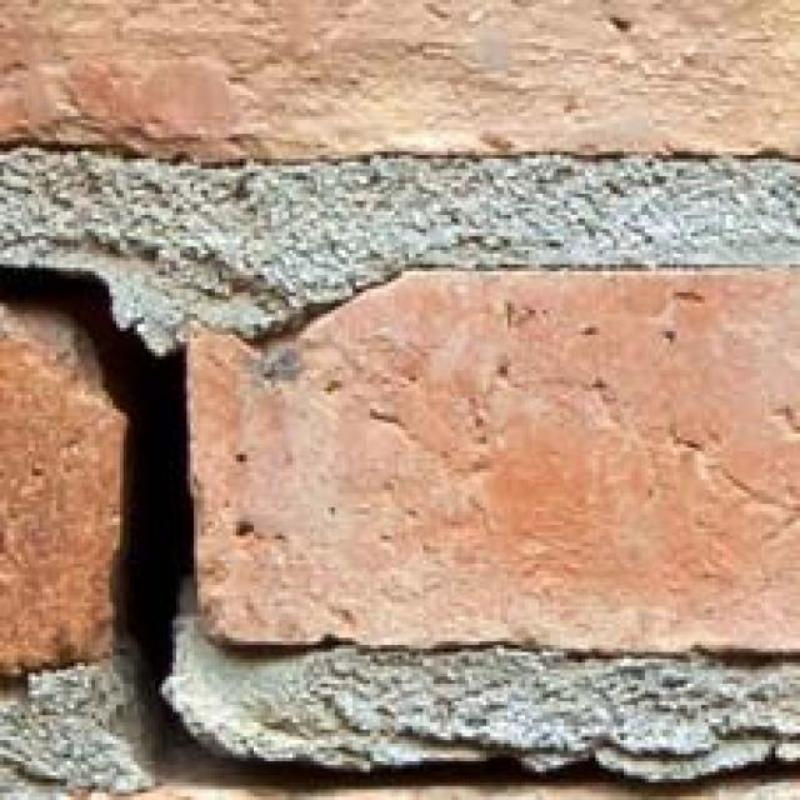pothole: (0, 268, 649, 797), (700, 753, 800, 787)
